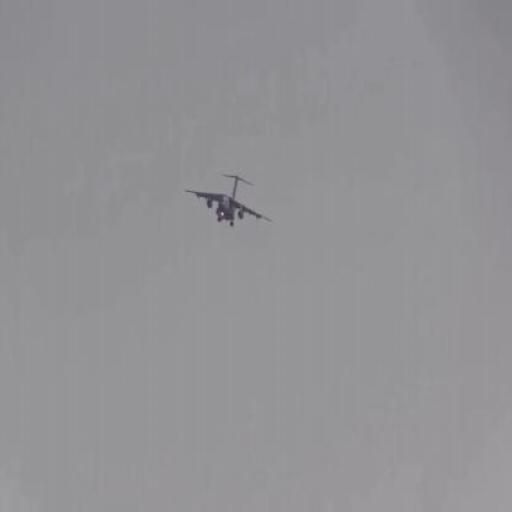aircraft: (184, 168, 276, 226)
